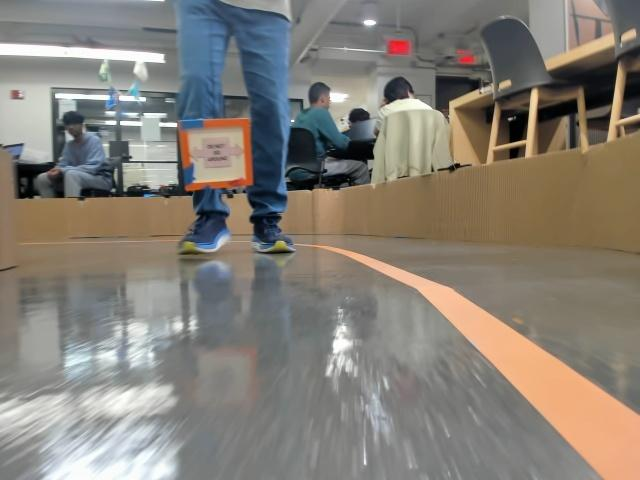Do Not Go Around: (190, 140, 240, 169)
